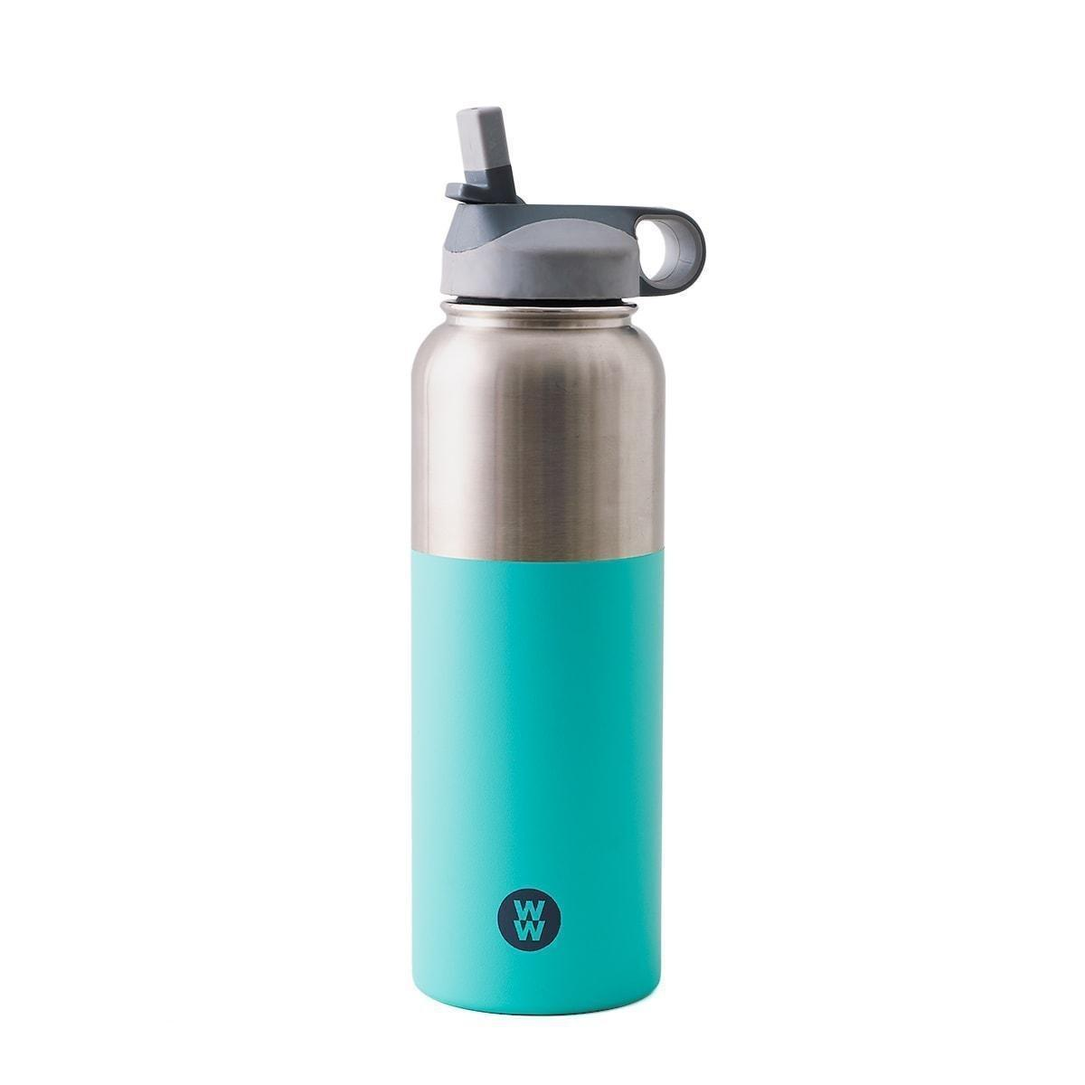gym bottle: (402, 100, 707, 1021)
